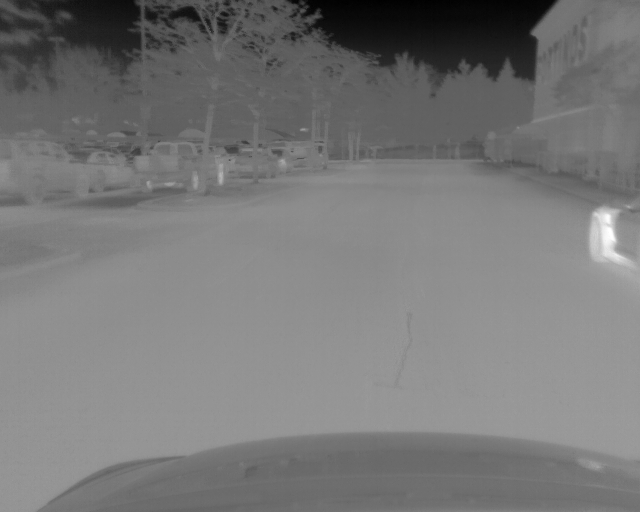car: (1, 133, 87, 204), (135, 141, 228, 193), (587, 196, 640, 274), (75, 149, 136, 194), (228, 144, 282, 178), (282, 140, 326, 170)
